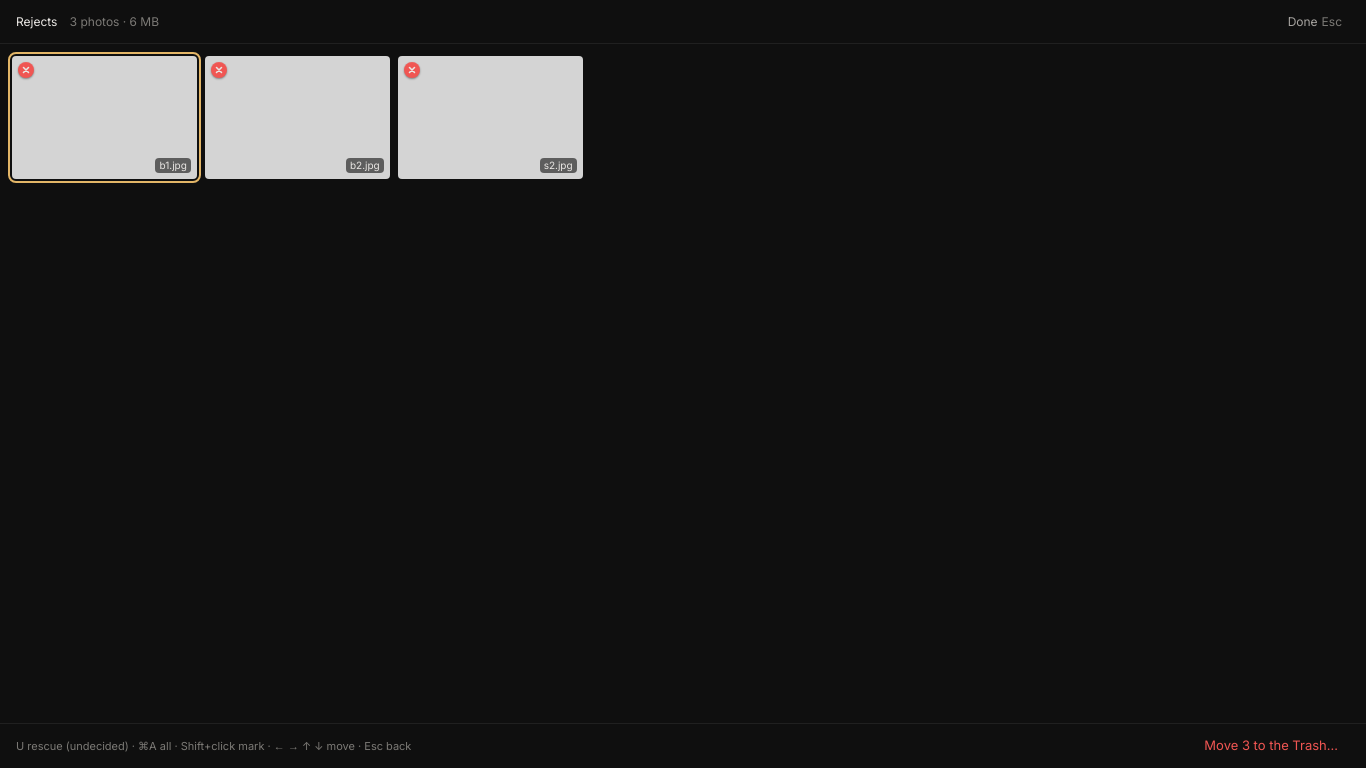
Test: the reject pile › is every reject of the folder whatever the filter, and the dialog counts the full pile
The width and height of the screenshot is (1366, 768).
Expected: the header shows "3 photos · 6 MB", [0,0,1365,44]
Step 1. Click the button "Move 3 to the Trash…" → click(1271, 746), box [1192,732,1350,760]
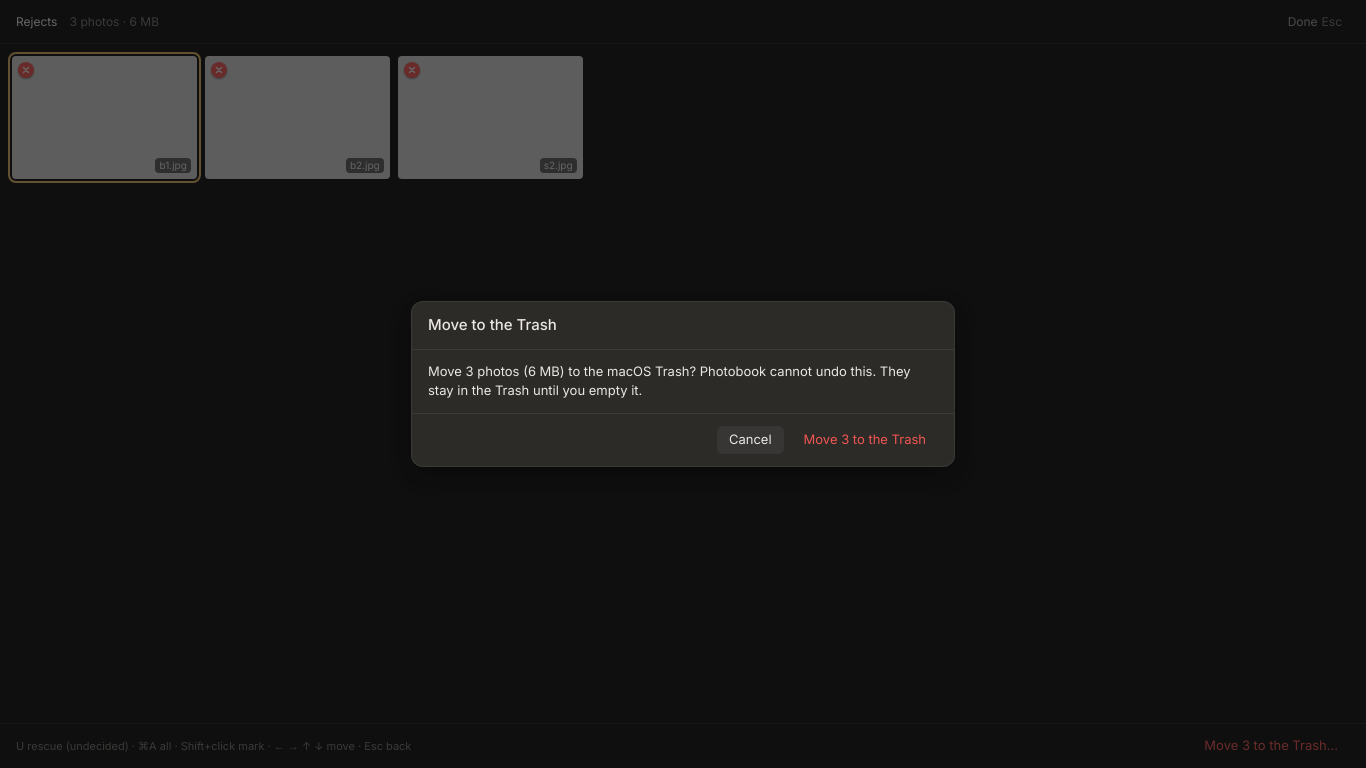
Result: the dialog "Move to the Trash" shows "Move 3 photos (6 MB) to the macOS Trash? Photobook cannot undo this." at [411,301,955,467]
Result: the button "Move 3 to the Trash" is shown at [792,426,938,454]
